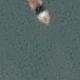ship: (0, 0, 22, 30)
